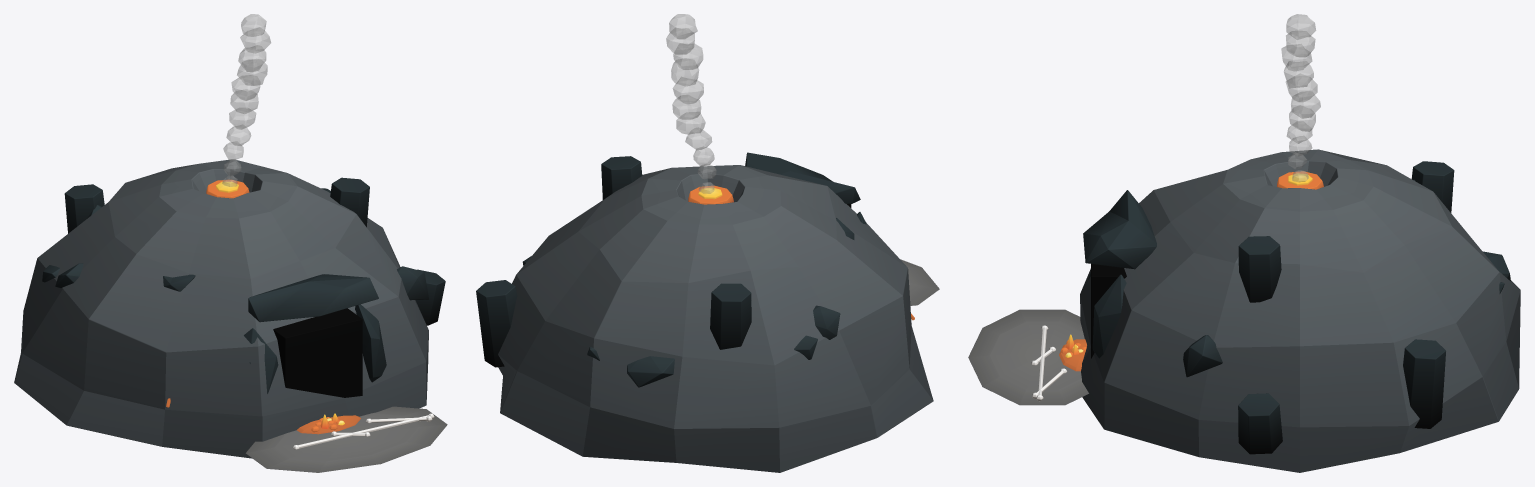
File: salamander_den.glb
3 views of the same model, side by side, from view 1: azimuth 30°, elevation 25°; view 2: azimuth 150°, elevation 25°; view 3: azimuth 270°, elevation 25° (orthographic). The views are drawn at different scales.
Visible parts, largest first — view 1: salamander_den; view 2: salamander_den; view 3: salamander_den.
Part boxes in pixels (x1=…): salamander_den: x1=14, y1=14, x2=447, y2=472; salamander_den: x1=476, y1=14, x2=939, y2=472; salamander_den: x1=968, y1=14, x2=1520, y2=472.
Bounding box in the file's own units: 6.39 × 5.56 × 7.41.
9 materials, 9 textured.
